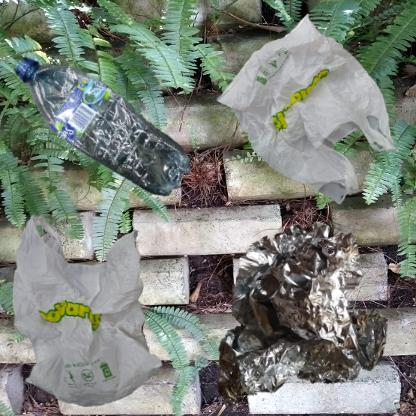aluminio: (213, 213, 399, 416)
bolsa: (213, 10, 400, 209), (10, 213, 166, 409)
botella: (10, 10, 250, 299)
